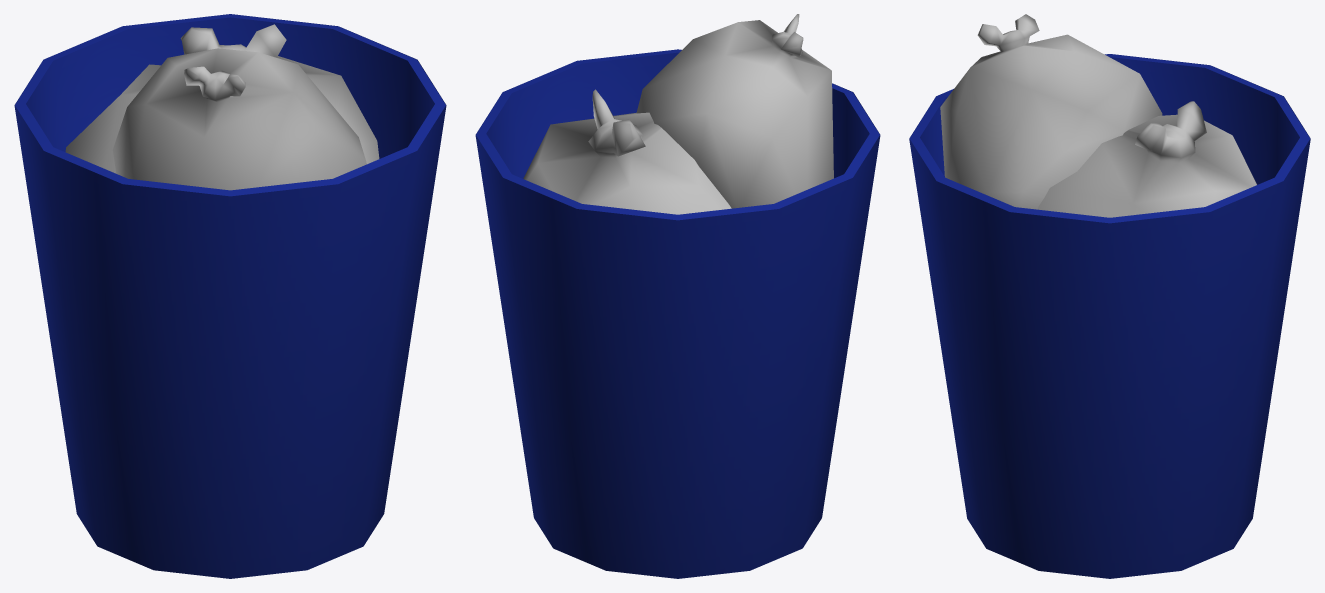
File: TrashCanBot_SM.fbx
3 renders of one model, left to right at view 1: azimuth 30°, elevation 25°; view 2: azimuth 150°, elevation 25°; view 3: azimuth 270°, elevation 25°, orthographic. The views are drawn at different scales.
Parts seen in each view (by area): view 1: TrashCanBot_SM; view 2: TrashCanBot_SM; view 3: TrashCanBot_SM.
Part boxes in pixels (x1,y1,x2,y2): TrashCanBot_SM: (14, 14, 446, 578); TrashCanBot_SM: (475, 14, 880, 578); TrashCanBot_SM: (909, 14, 1310, 578).
Size of the model in its own units: 63.03 by 80.95 by 63.03.
